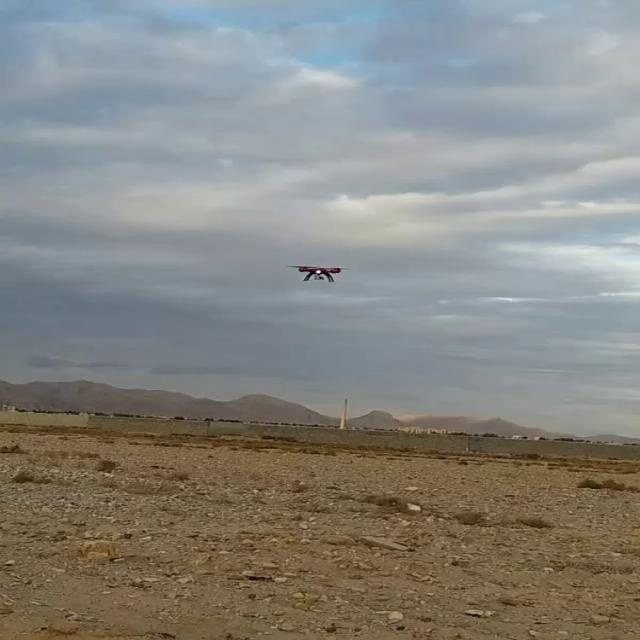drone: (279, 260, 354, 288)
